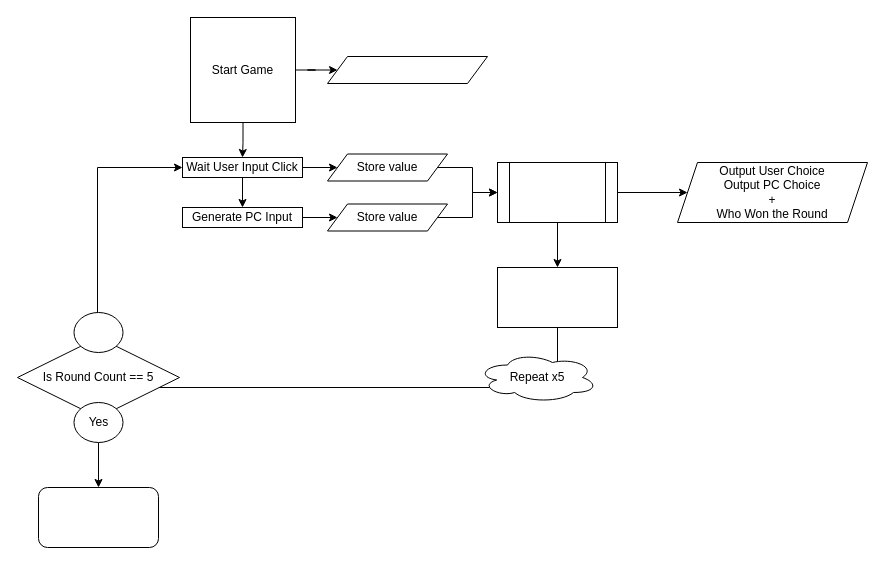
The diagram is 885 pixels wide and 565 high, and some of its shapes have lost their labels. Here are the shapes that lost their labels. From the top down, the box of each, then its label:
(326, 56, 488, 84): Output Start Msg
(496, 162, 618, 222): Game Logic Win/Draw/Loss
(496, 266, 618, 328): Assign +1 to Winner or when Draw no Change
(73, 312, 123, 352): No
(38, 486, 158, 548): Declare Winner
